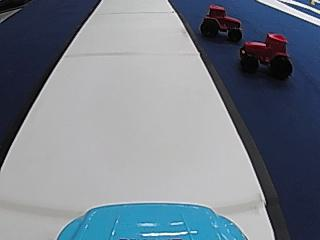Tracktor: (239, 29, 292, 77), (198, 2, 243, 43)
